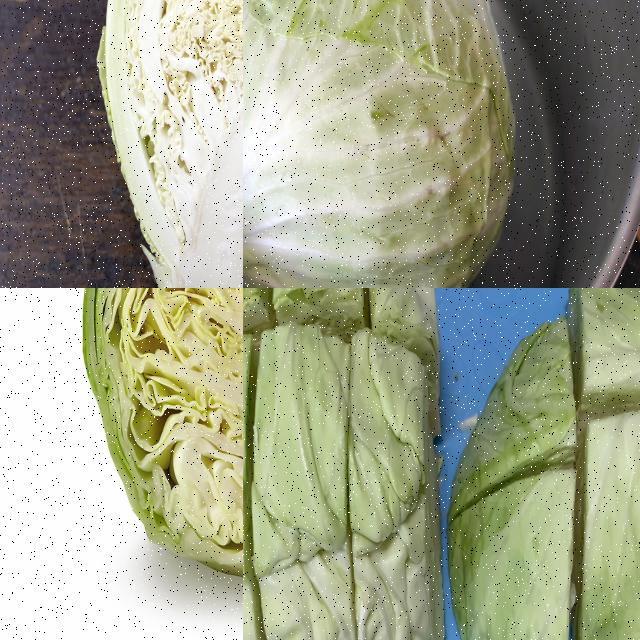cabbage: (243, 0, 517, 287), (243, 288, 447, 639), (448, 288, 639, 639), (74, 288, 242, 589), (90, 0, 242, 287)
